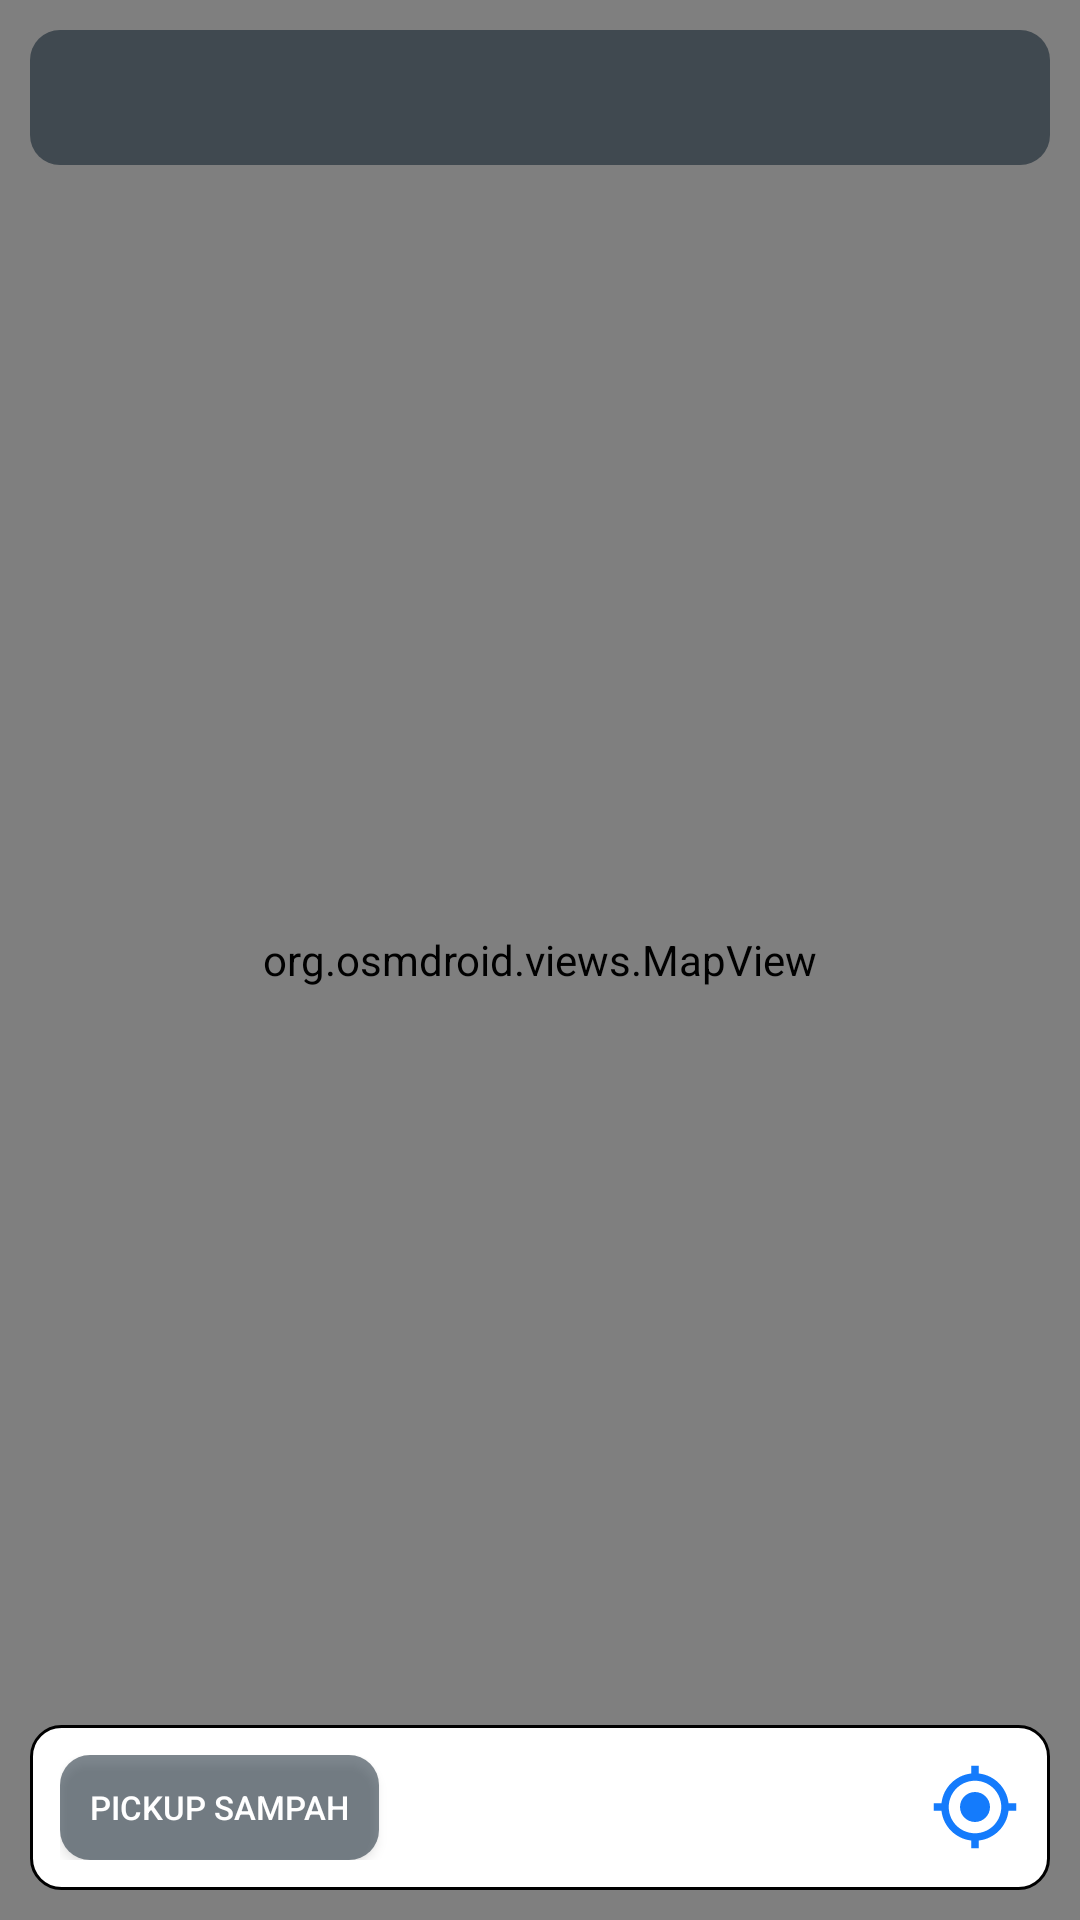

Point at icon controls on the screen. Image size 1080x1920, points as point (x, y).
location: point (975, 1807)
